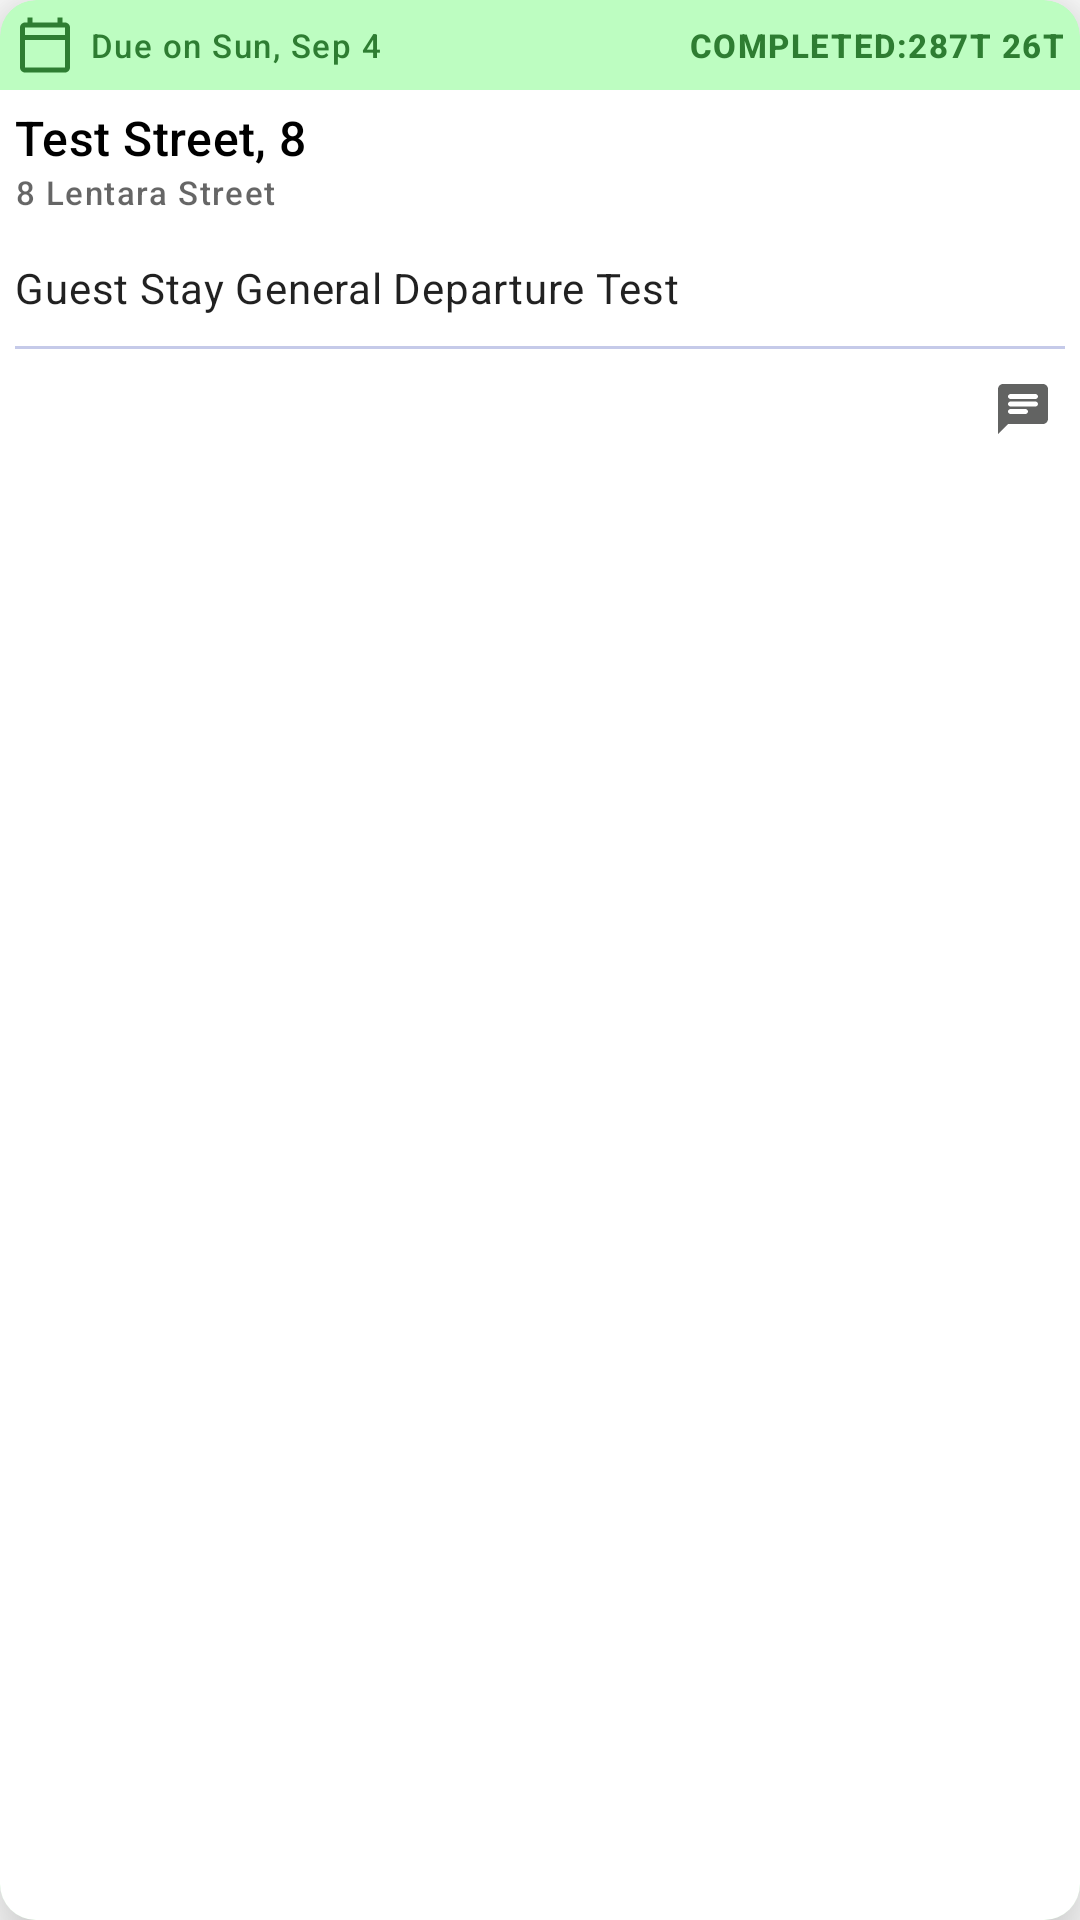

Icons on this 1080 x 1920 Android screen, each with the point to tap as (x,y):
calendar today: (45,45)
chat: (1023,409)
